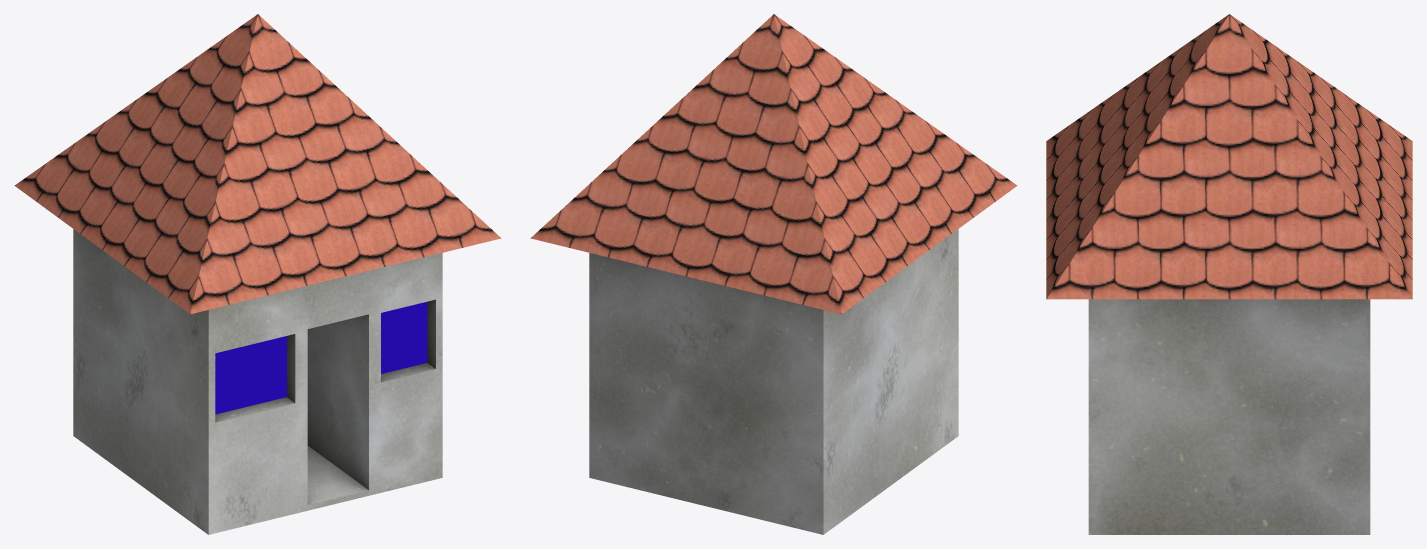
The model's file is lowpoly girl.fbx.
The picture shows the model from 3 angles, left to right: view 1: azimuth 30°, elevation 25°; view 2: azimuth 150°, elevation 25°; view 3: azimuth 270°, elevation 25°; orthographic projection. The views are drawn at different scales.
Visible parts, largest first — view 1: Pyramid; view 2: Pyramid; view 3: Pyramid.
Boxes of the visible parts, box(x1,y1,x2,y2) form: Pyramid: box(14, 14, 501, 534); Pyramid: box(530, 14, 1017, 534); Pyramid: box(1046, 14, 1412, 534).
Bounding box in the file's own units: 266 × 361 × 260.
1 material, 1 textured.
